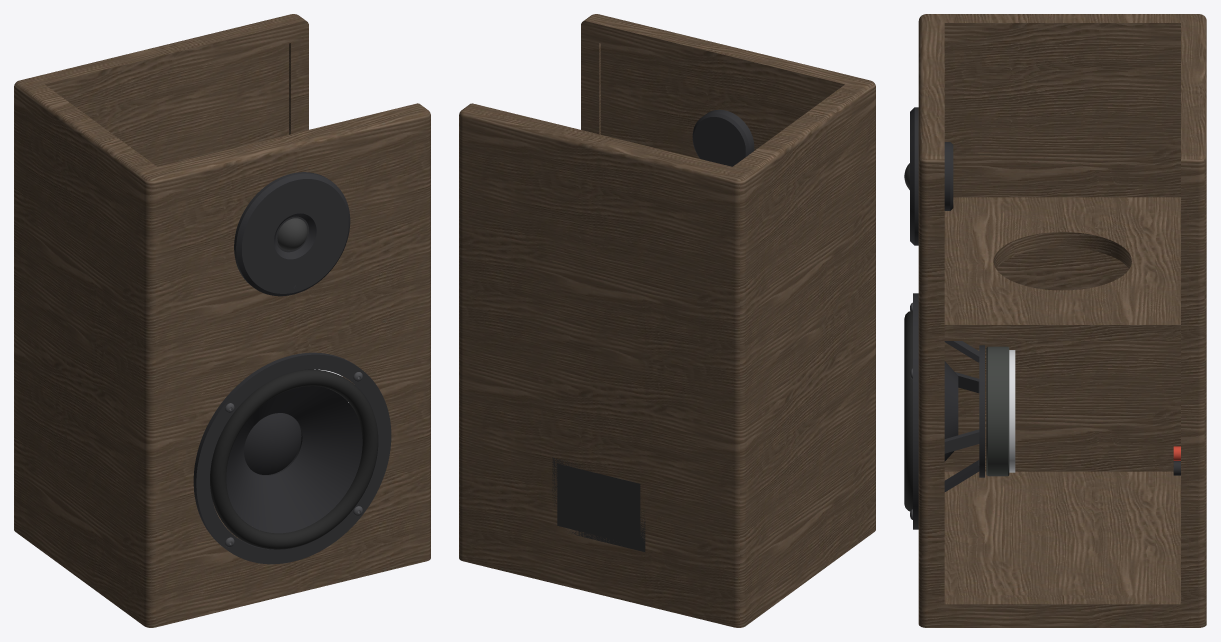
The model's file is cabinet.glb.
3 views of the same model, side by side, from view 1: azimuth 30°, elevation 25°; view 2: azimuth 150°, elevation 25°; view 3: azimuth 270°, elevation 25° (orthographic). The views are drawn at different scales.
Visible parts, largest first — view 1: cabinet, woofer, tweeter; view 2: cabinet, tweeter; view 3: cabinet, woofer, tweeter.
Part boxes in pixels (x1,y1,x2,y2): cabinet: (14,14,430,627); woofer: (193,352,391,564); tweeter: (234,172,350,296); cabinet: (459,14,875,627); tweeter: (692,109,754,166); cabinet: (918,14,1206,627); woofer: (904,293,1015,529); tweeter: (904,107,953,245).
Size of the model in its own units: 240 by 366 by 210.
11 materials, 1 textured.
